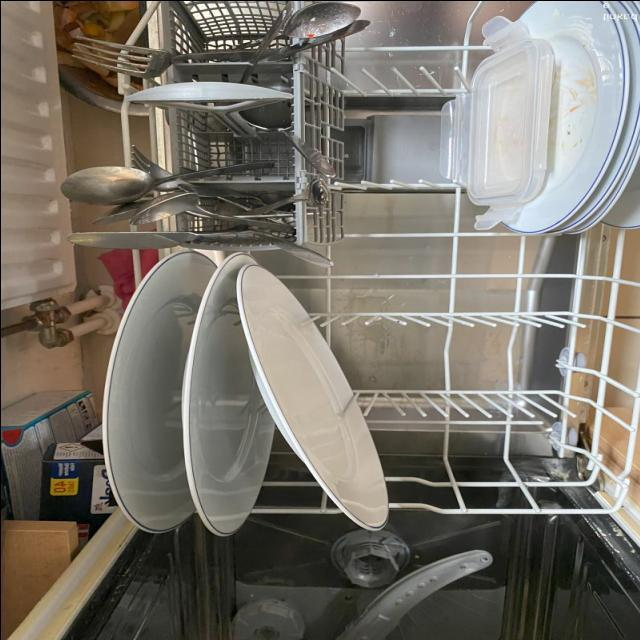clutery_bin: (82, 1, 332, 253)
empty_slot: (355, 228, 618, 520)
